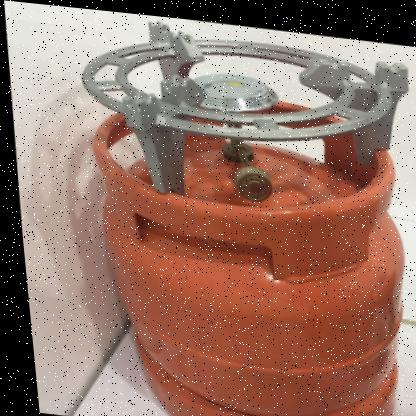gas-tank: (64, 63, 415, 415)
